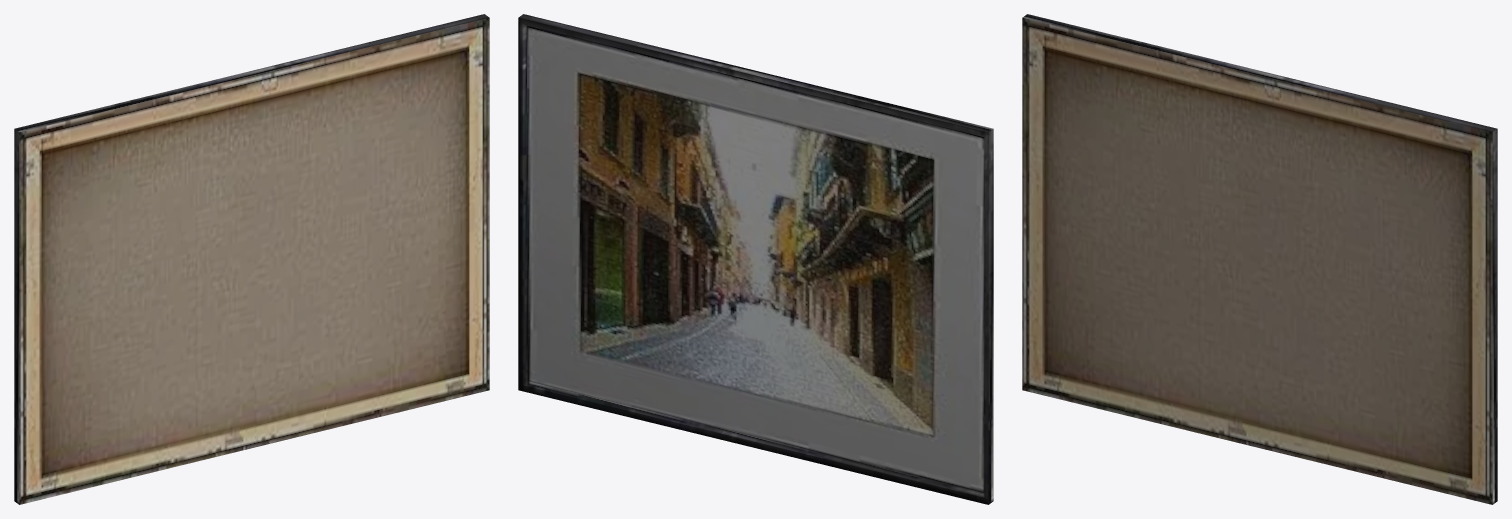
The model's file is offpaintingj.glb.
3 views of the same model, side by side, from view 1: azimuth 30°, elevation 25°; view 2: azimuth 150°, elevation 25°; view 3: azimuth 330°, elevation 25° (orthographic).
Visible parts, largest first — view 1: 0_Poster_backing, 1_offpaintingj; view 2: 1_offpaintingj; view 3: 0_Poster_backing, 1_offpaintingj.
Part boxes in pixels (x1,y1,x2,y2): 0_Poster_backing: (19, 17, 489, 504); 1_offpaintingj: (14, 14, 488, 504); 1_offpaintingj: (518, 14, 993, 504); 0_Poster_backing: (1022, 17, 1492, 504); 1_offpaintingj: (1023, 14, 1497, 504).
Size of the model in its own units: 0.9682 by 0.7334 by 0.0178.
Materials: 2 (2 with a texture image).
